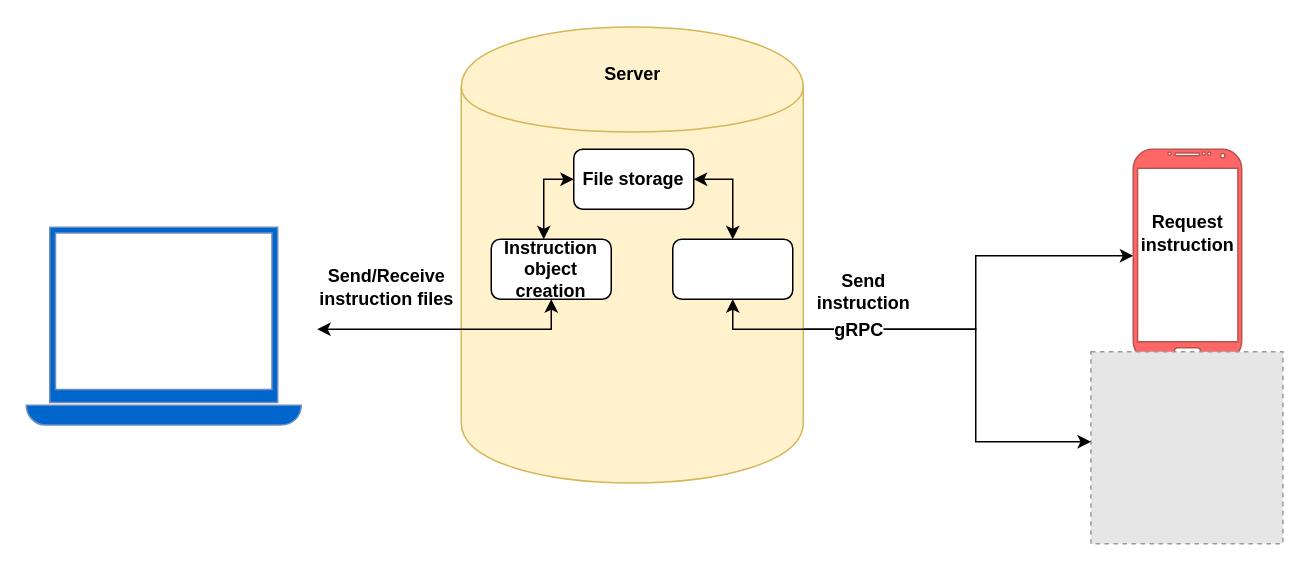
Image size: 1310x570. Some labels were removed from this diagram. Grey dashed boxes stand in for pictures. The shapes that lost their labels are listed below. From the top down, each one's centre as x and y in pixels, then its label:
At (x=732, y=268): "Instruction object transfer".
At (x=163, y=325): "Create instruction".
